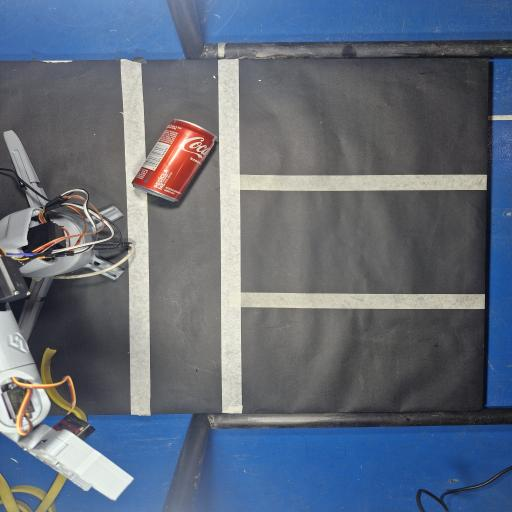lata: (132, 120, 216, 201)
